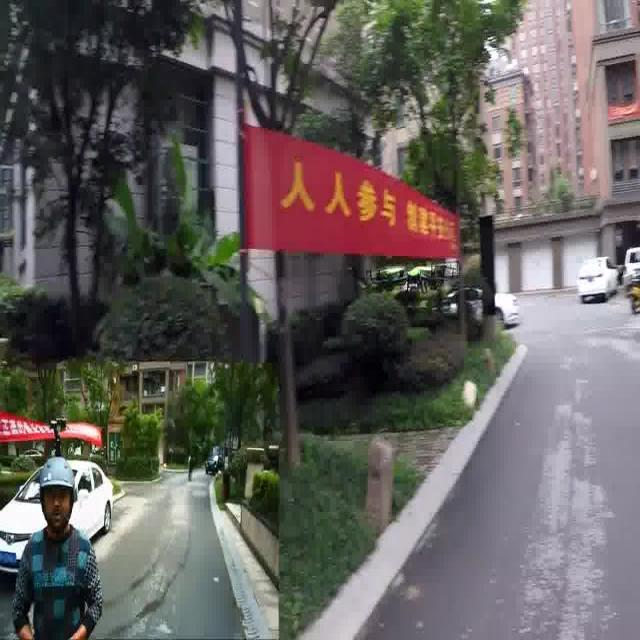drone: (346, 238, 464, 324)
